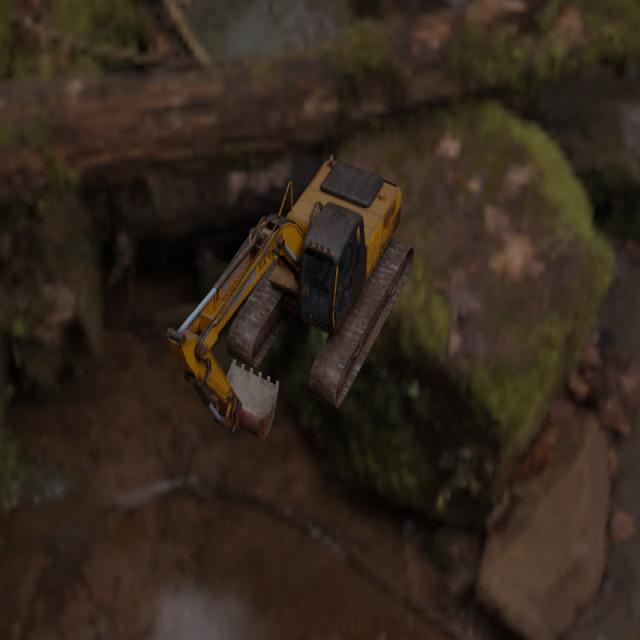excavator: (166, 153, 414, 440)
